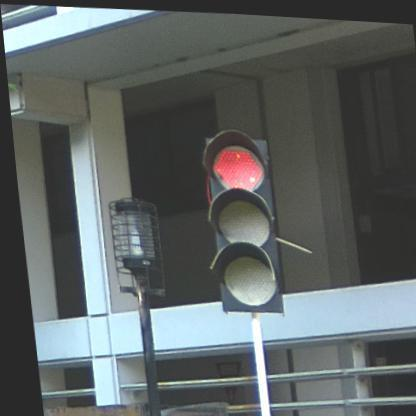red: (195, 124, 278, 311)
